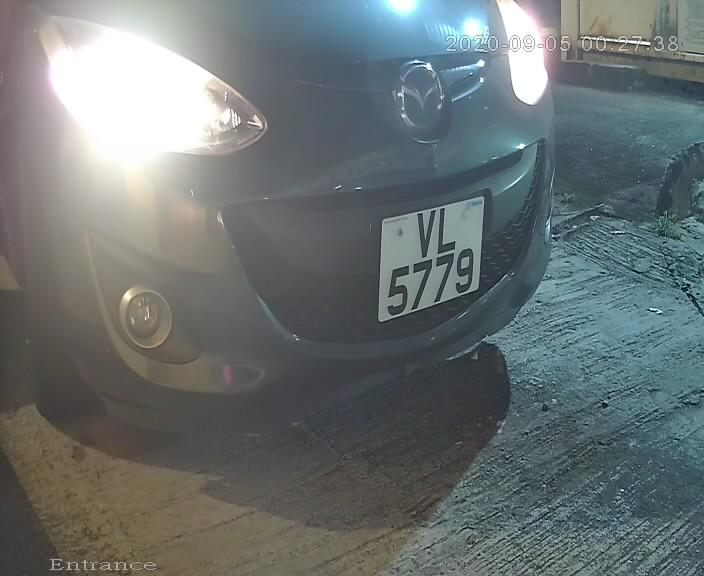License Plate: (361, 182, 502, 334)
